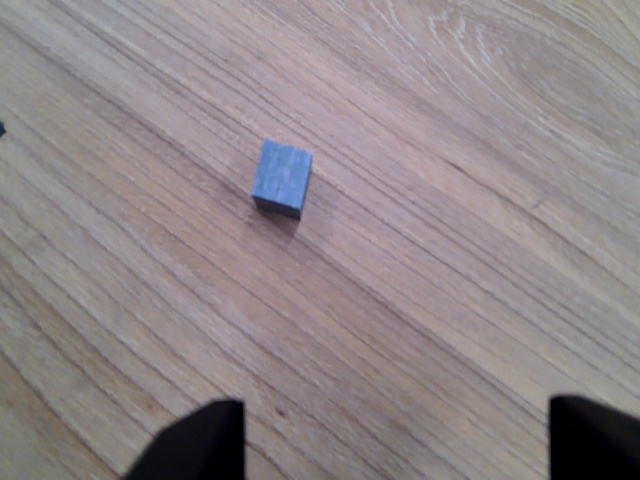stone: (245, 137, 318, 223)
